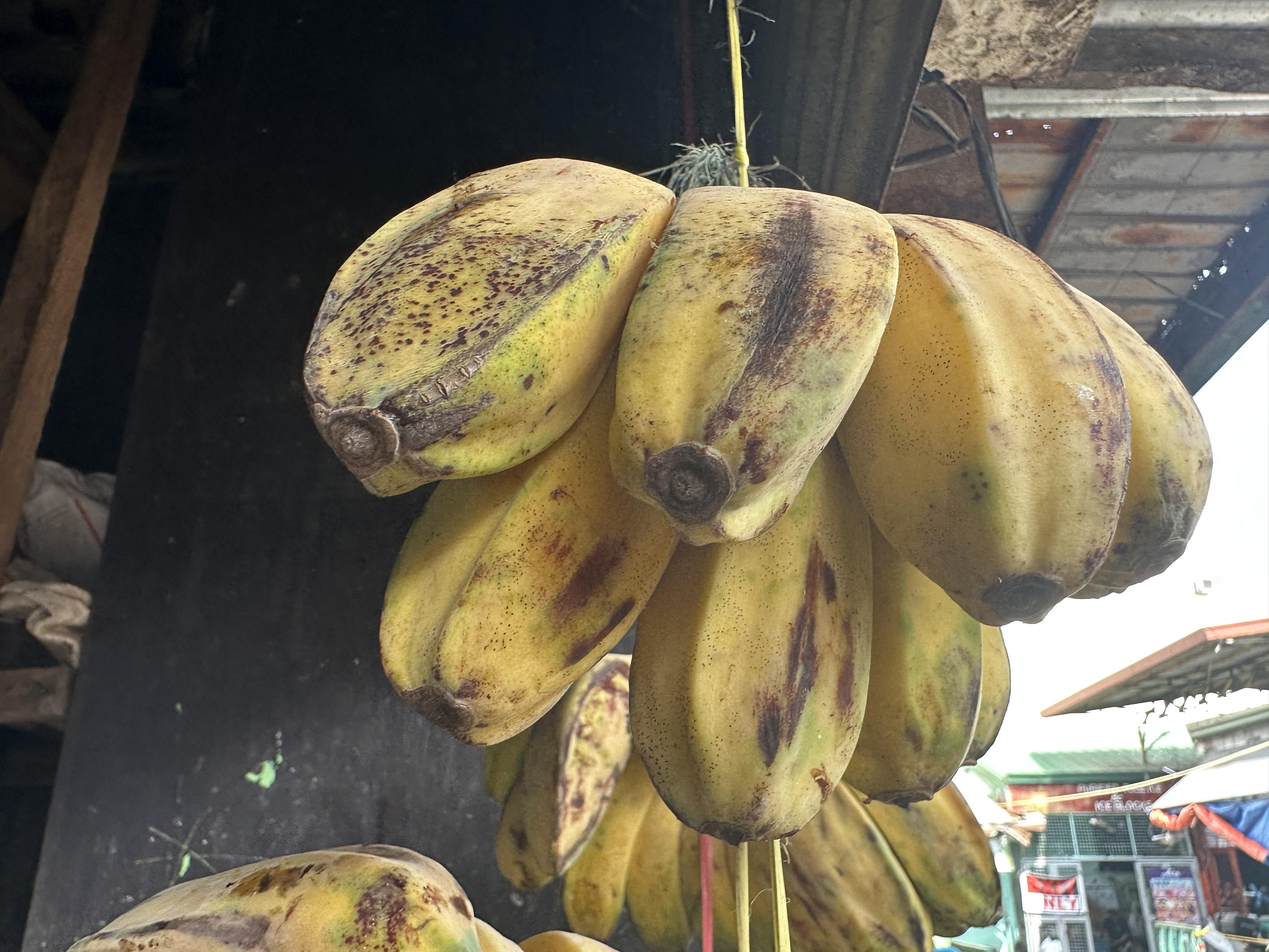underripe: (304, 157, 1212, 842), (483, 653, 704, 952), (779, 784, 1003, 952)
